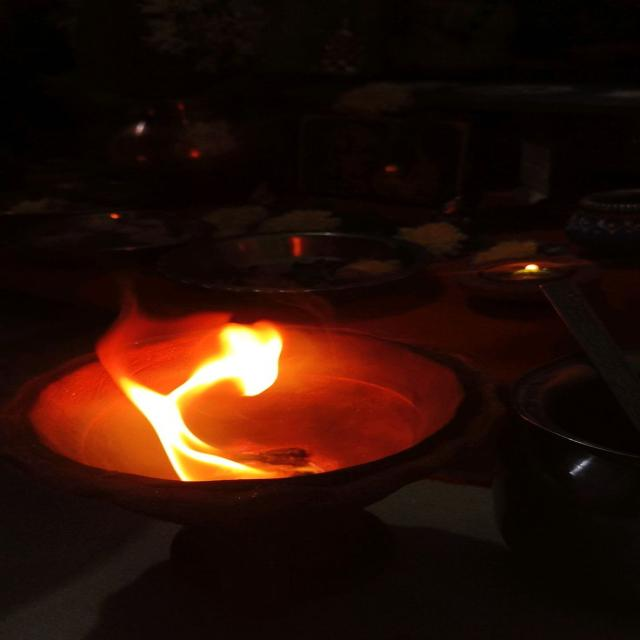fire: (97, 309, 282, 481)
